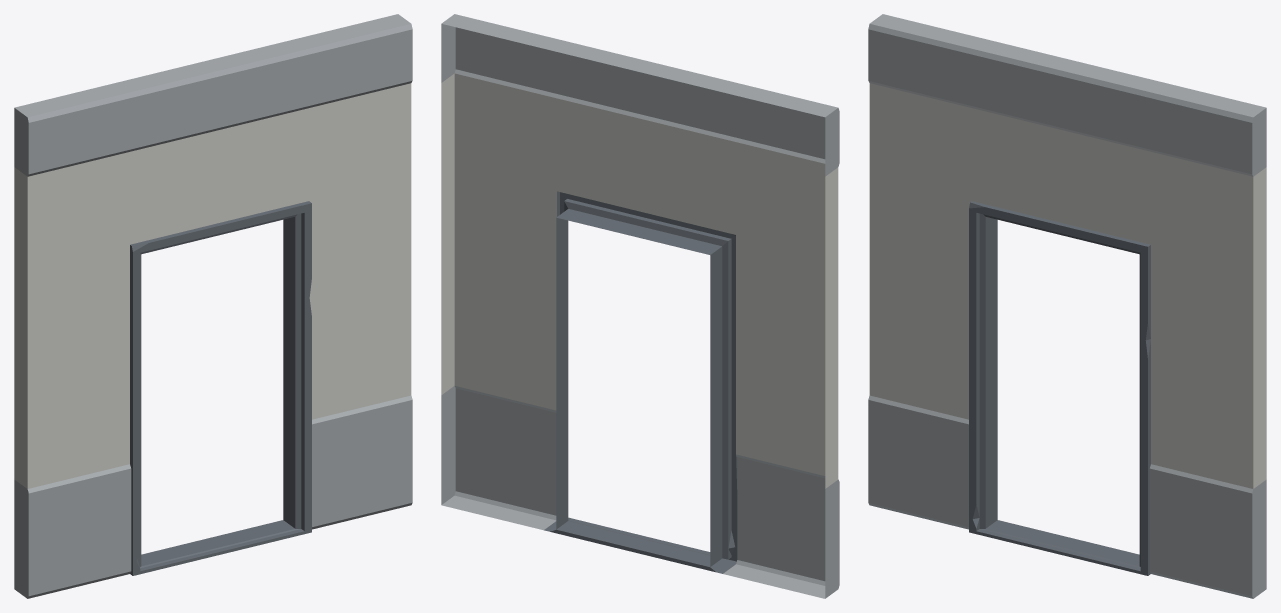
Rendered from Wall_Door_01.FBX.
The picture shows the model from 3 angles, left to right: view 1: azimuth 30°, elevation 25°; view 2: azimuth 150°, elevation 25°; view 3: azimuth 330°, elevation 25°; orthographic projection.
Parts seen in each view (by area): view 1: Wall_Door_01; view 2: Wall_Door_01; view 3: Wall_Door_01.
Part boxes in pixels (x1,y1,x2,y2): Wall_Door_01: (14, 14, 412, 598); Wall_Door_01: (441, 14, 839, 598); Wall_Door_01: (868, 14, 1266, 598).
Bounding box in the file's own units: 250 × 300 × 18.27.
